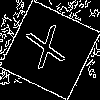X: (25, 25, 71, 79)
